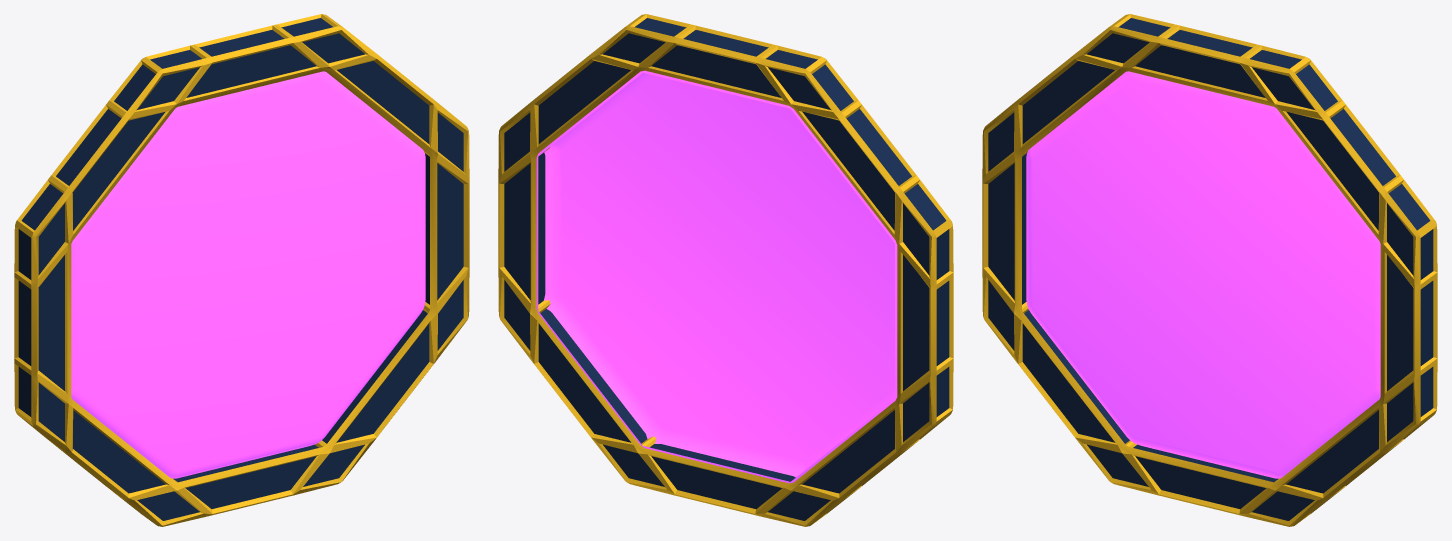
File: Target.fbx
3 views of the same model, side by side, from view 1: azimuth 30°, elevation 25°; view 2: azimuth 150°, elevation 25°; view 3: azimuth 330°, elevation 25° (orthographic).
Parts seen in each view (by area): view 1: Cylinder; view 2: Cylinder; view 3: Cylinder.
Boxes of the visible parts, <box> form: Cylinder: <box>14,14,469,526</box>; Cylinder: <box>498,14,953,526</box>; Cylinder: <box>982,14,1437,526</box>.
Bounding box in the file's own units: 171 × 171 × 15.3.
